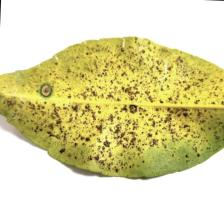canker: (64, 69, 193, 149)
